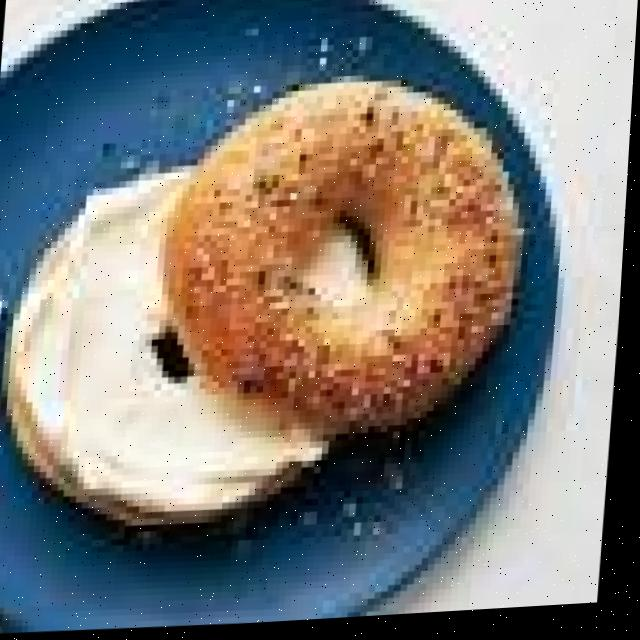Bagel: (170, 88, 519, 437), (10, 170, 333, 524)
